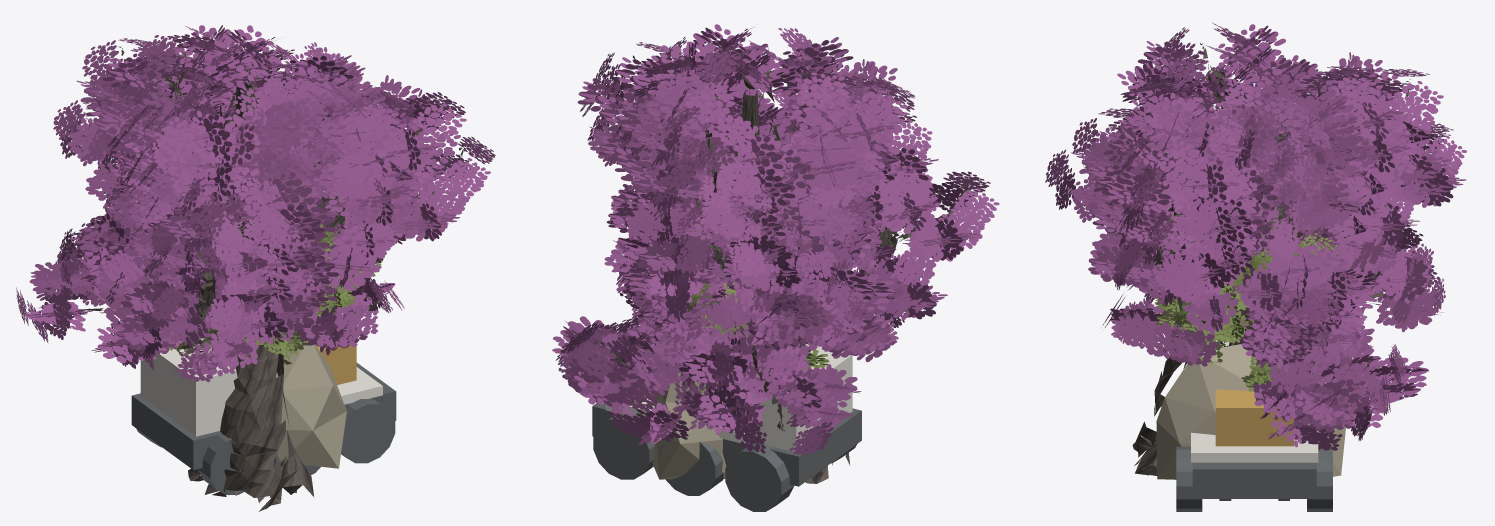
File: scatter-kit.glb
3 renders of one model, left to right at view 1: azimuth 30°, elevation 25°; view 2: azimuth 150°, elevation 25°; view 3: azimuth 270°, elevation 25°, orthographic.
Visible parts, largest first — view 1: MF_Tree_Purple_C_leaves, MF_Tree_Purple_D_leaves, MF_Tree_Purple_B_leaves, MF_Tree_Purple_A_leaves, MF_Tree_Purple_C_bark, MF_Boulder_B_rock, rover_cab, rover_chassis, rover_wheel.005, MF_Tree_Olive_A_leaves, rover_wheel.001, MF_Tree_Purple_D_bark (+3 smaller); view 2: MF_Tree_Purple_D_leaves, MF_Tree_Purple_C_leaves, MF_Tree_Purple_B_leaves, MF_Tree_Purple_A_leaves, rover_wheel, rover_chassis, MF_Boulder_B_rock, rover_wheel.004, rover_cab, rover_wheel.002, MF_Tree_Purple_D_bark, MF_Tree_Purple_C_bark (+2 smaller); view 3: MF_Tree_Purple_C_leaves, MF_Tree_Purple_D_leaves, MF_Tree_Purple_B_leaves, MF_Tree_Purple_A_leaves, MF_Boulder_B_rock, rover_chassis, MF_Tree_Olive_A_leaves, rover_cargo, rover_deck, MF_Tree_Purple_C_bark, rover_wheel.005, rover_wheel.004 (+1 smaller).
Part boxes in pixels (bbox=[...]): MF_Tree_Purple_C_leaves: bbox=[70, 25, 466, 306]; MF_Tree_Purple_D_leaves: bbox=[16, 53, 495, 380]; MF_Tree_Purple_B_leaves: bbox=[20, 60, 492, 382]; MF_Tree_Purple_A_leaves: bbox=[106, 89, 437, 342]; MF_Tree_Purple_C_bark: bbox=[118, 44, 439, 511]; MF_Boulder_B_rock: bbox=[249, 333, 346, 468]; rover_cab: bbox=[140, 338, 237, 436]; rover_chassis: bbox=[131, 363, 396, 470]; rover_wheel.005: bbox=[341, 398, 395, 463]; MF_Tree_Olive_A_leaves: bbox=[169, 224, 386, 364]; rover_wheel.001: bbox=[198, 431, 265, 494]; MF_Tree_Purple_D_bark: bbox=[47, 68, 465, 495]; MF_Tree_Purple_D_leaves: bbox=[552, 45, 999, 454]; MF_Tree_Purple_C_leaves: bbox=[577, 24, 938, 347]; MF_Tree_Purple_B_leaves: bbox=[555, 56, 994, 454]; MF_Tree_Purple_A_leaves: bbox=[598, 89, 901, 352]; rover_wheel: bbox=[725, 443, 793, 511]; rover_chassis: bbox=[592, 402, 861, 486]; MF_Boulder_B_rock: bbox=[652, 372, 726, 479]; rover_wheel.004: bbox=[593, 414, 654, 479]; rover_cab: bbox=[746, 344, 852, 451]; rover_wheel.002: bbox=[659, 442, 723, 495]; MF_Tree_Purple_D_bark: bbox=[585, 94, 971, 483]; MF_Tree_Purple_C_bark: bbox=[633, 44, 860, 465]; MF_Tree_Purple_C_leaves: bbox=[1071, 22, 1443, 354]; MF_Tree_Purple_D_leaves: bbox=[1045, 55, 1466, 450]; MF_Tree_Purple_B_leaves: bbox=[1048, 61, 1463, 450]; MF_Tree_Purple_A_leaves: bbox=[1096, 95, 1415, 371]; MF_Boulder_B_rock: bbox=[1156, 344, 1345, 479]; rover_chassis: bbox=[1192, 462, 1316, 498]; MF_Tree_Olive_A_leaves: bbox=[1148, 229, 1361, 391]; rover_cargo: bbox=[1215, 389, 1293, 446]; rover_deck: bbox=[1191, 431, 1318, 462]; MF_Tree_Purple_C_bark: bbox=[1109, 43, 1410, 475]; rover_wheel.005: bbox=[1176, 446, 1202, 511]; rover_wheel.004: bbox=[1307, 446, 1332, 511].
Size of the model in its own units: 6.94 by 6.87 by 6.74.
Materials: 13 (6 with a texture image).
